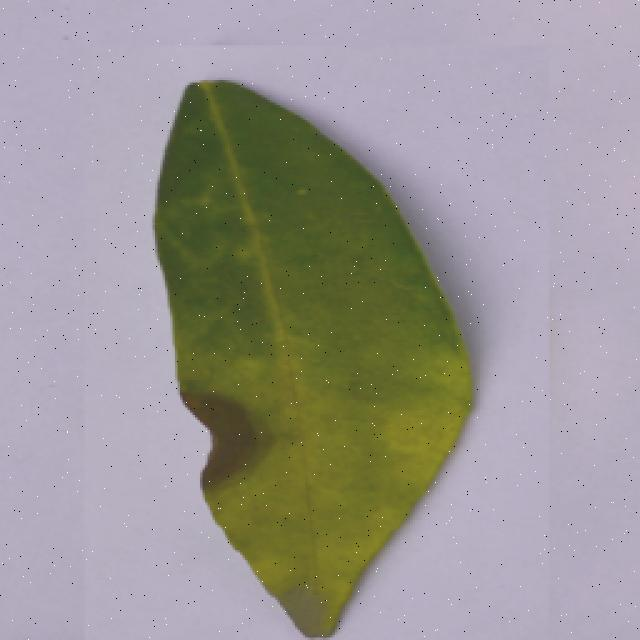canker: (157, 78, 474, 640)
